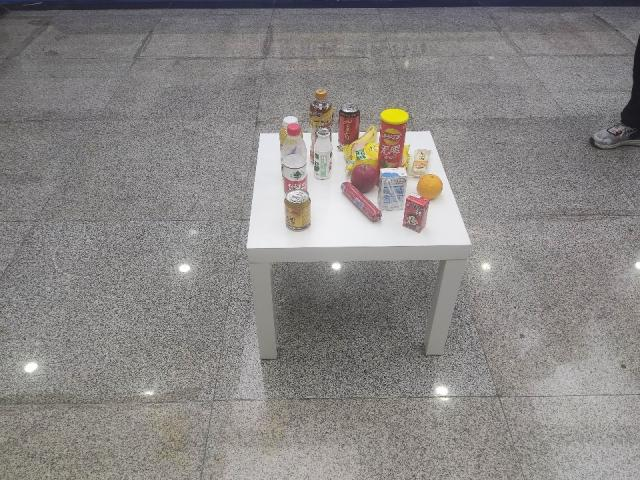Canned_drinks: (282, 188, 312, 230), (337, 106, 361, 144)
bottle: (282, 123, 310, 201), (314, 128, 333, 183)
cylinder: (375, 107, 411, 176)
drink_box: (376, 165, 410, 214), (401, 191, 432, 235)
